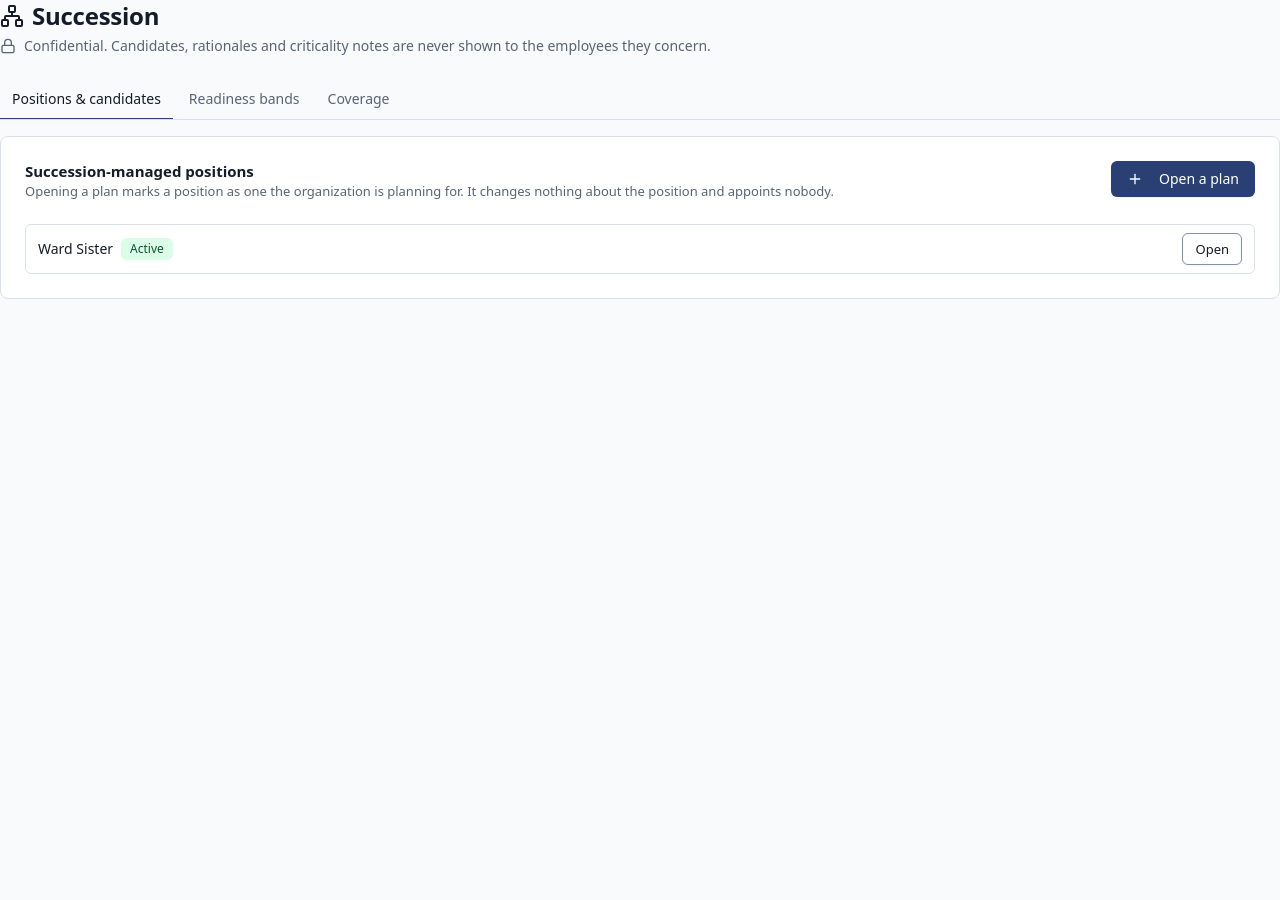
Test: Succession workspace › asks before closing a plan, and Cancel leaves it open
Step 1. Click the button with test id "button-open-plan-30" → (1212, 249), box [1182,233,1242,265]
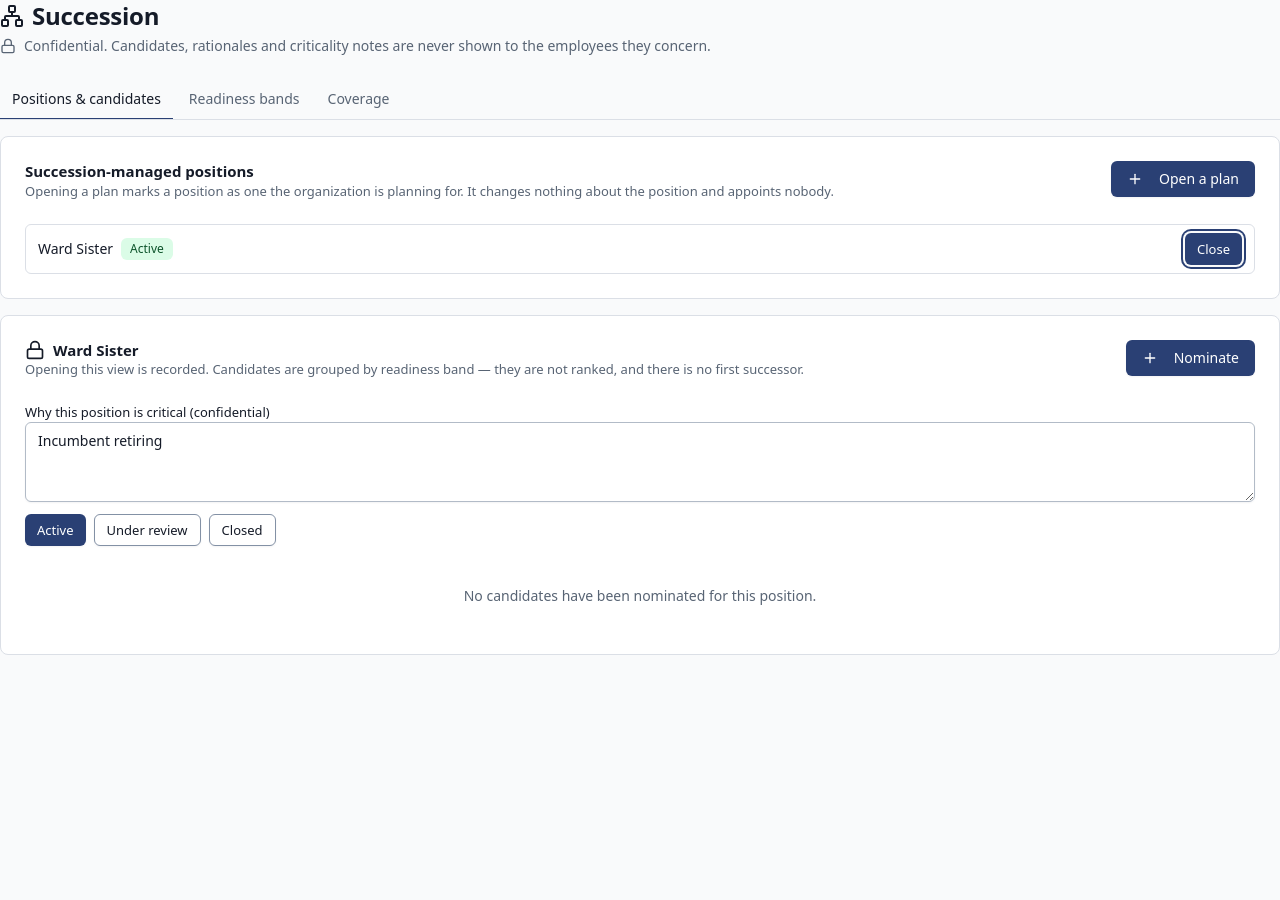
Step 2. Click the button with test id "button-plan-status-closed" → (242, 530), box [209,514,276,546]
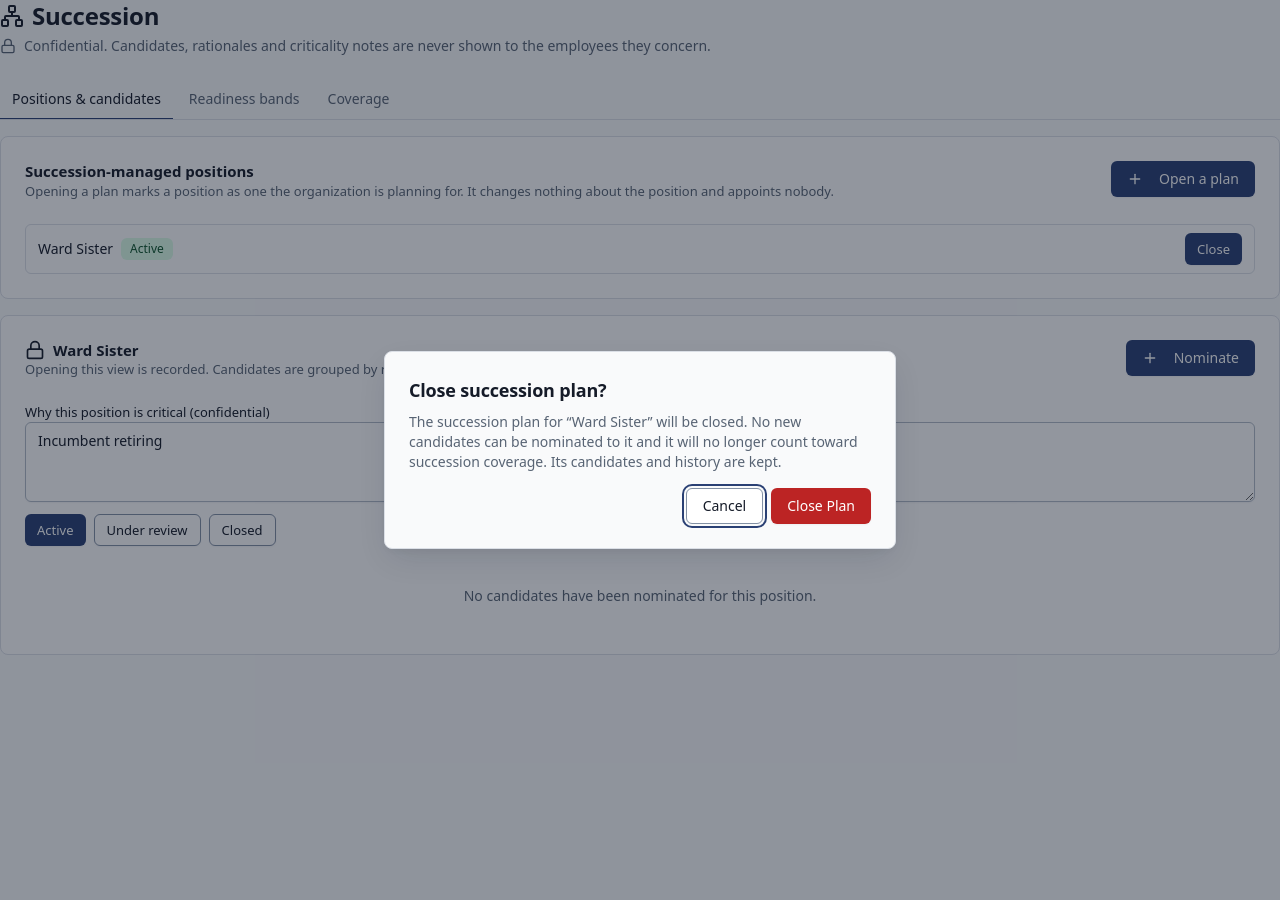
Result: the dialog with test id "dialog-close-plan" shows "Close succession plan?" at [409,378,606,402]
Result: the dialog with test id "dialog-close-plan" shows "The succession plan for “Ward Sister” will be closed" at [409,412,858,471]
Step 3. Click the button with test id "dialog-close-plan-cancel" → (724, 506), box [686,488,763,524]
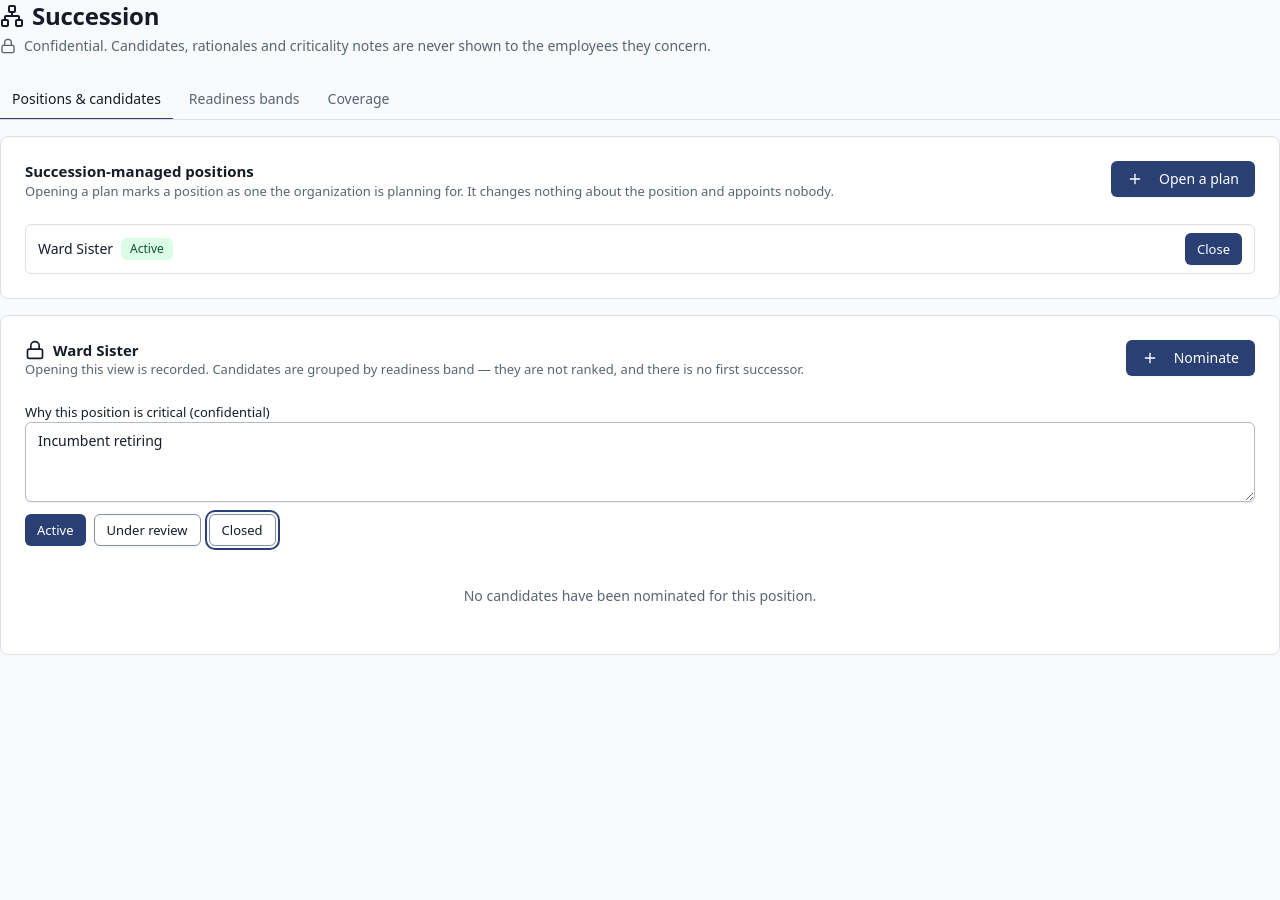
Result: the dialog with test id "dialog-close-plan" is gone
